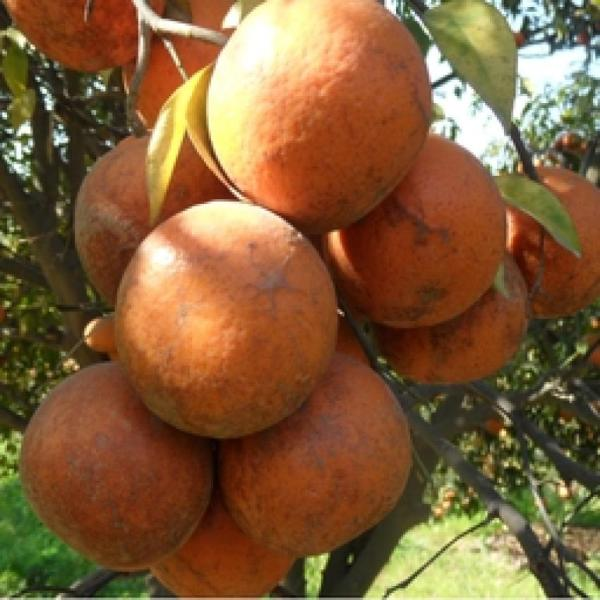Canker: (109, 199, 344, 438), (206, 0, 431, 233), (18, 357, 219, 579), (306, 130, 507, 332), (216, 350, 414, 554), (70, 133, 234, 301), (366, 262, 530, 391), (492, 155, 598, 319), (144, 502, 303, 590), (1, 0, 165, 77)
Sana: (122, 0, 260, 129)
